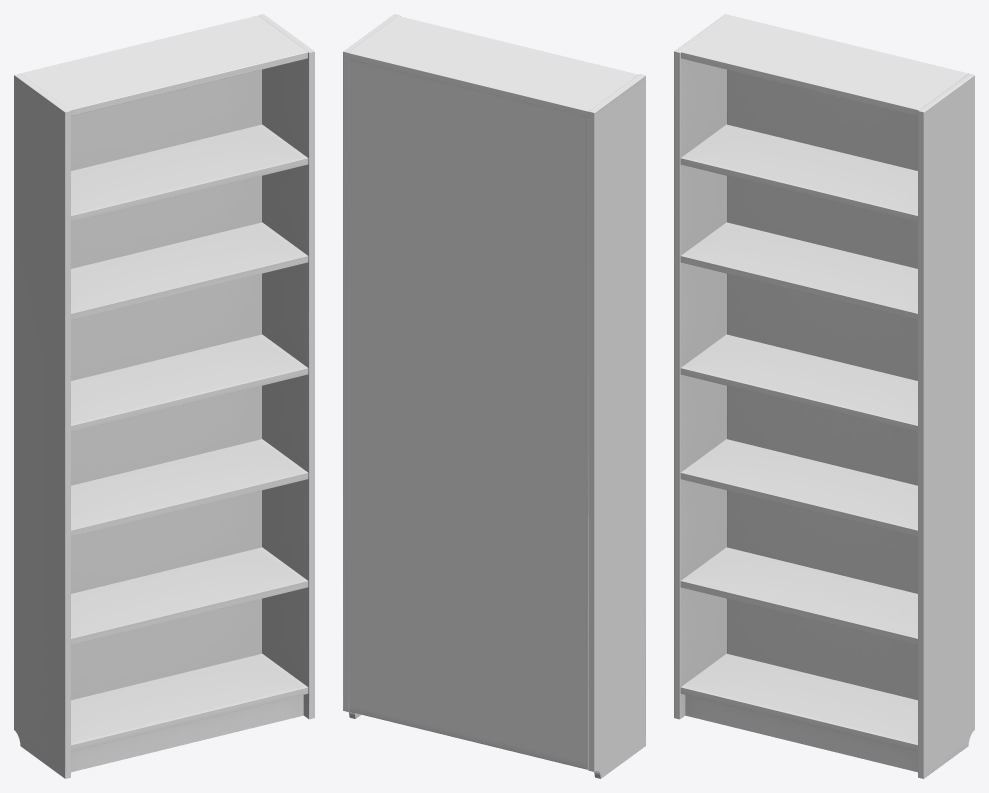
Rendered from Shelve_006_White.gltf.
The picture shows the model from 3 angles, left to right: view 1: azimuth 30°, elevation 25°; view 2: azimuth 150°, elevation 25°; view 3: azimuth 330°, elevation 25°; orthographic projection.
Parts seen in each view (by area): view 1: Shelve_006; view 2: Shelve_006; view 3: Shelve_006.
Part boxes in pixels (x1,y1,x2,y2): Shelve_006: (14,14,314,778); Shelve_006: (343,14,645,778); Shelve_006: (674,14,974,778).
Bounding box in the file's own units: 0.7851 × 2 × 0.2789.
1 material, 1 textured.
